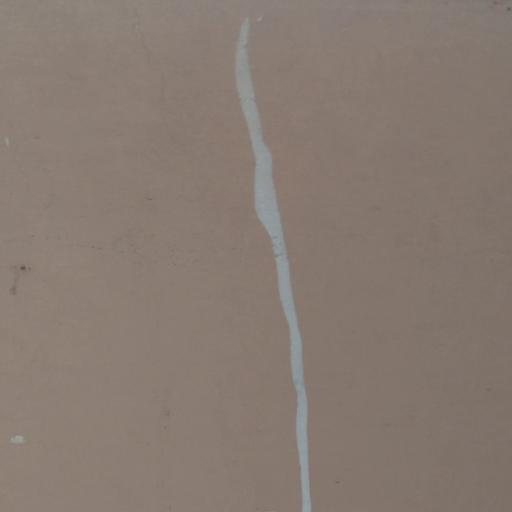stain: (202, 0, 319, 512), (1, 237, 40, 319), (7, 423, 33, 455)
